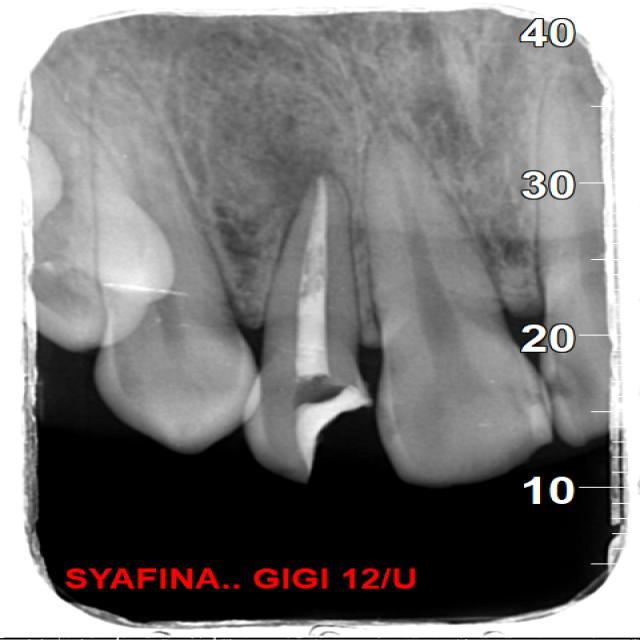individual-tooth-8tto: (367, 133, 553, 481), (93, 73, 260, 444), (239, 167, 363, 482)
